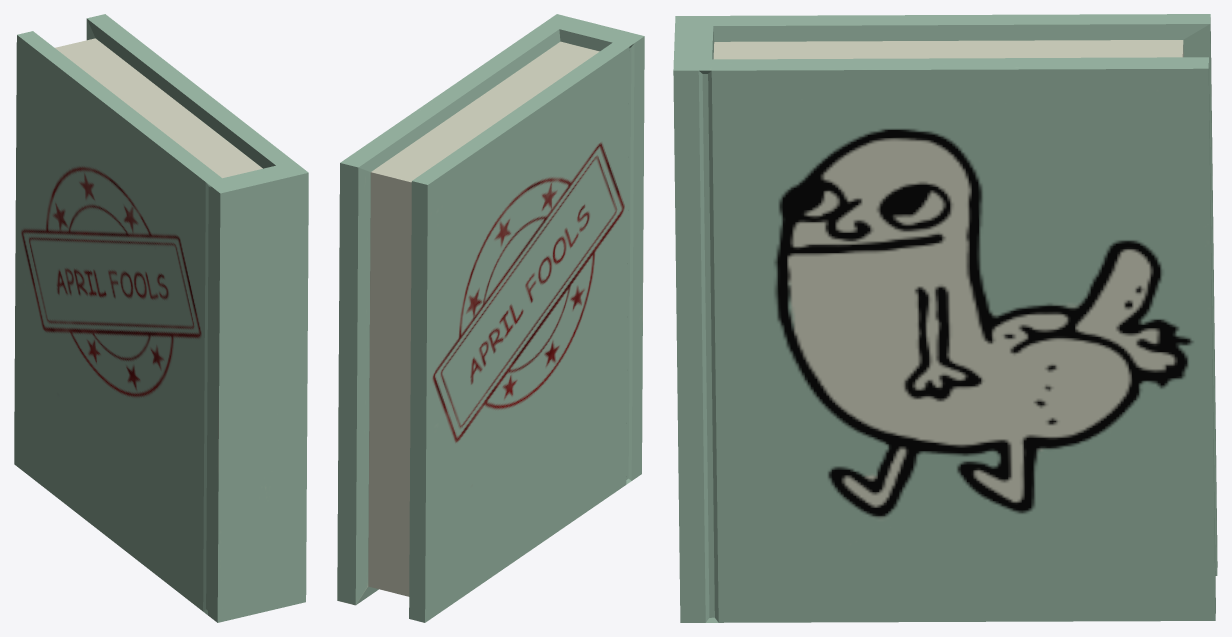
File: AtlA_Book1_water.fbx
3 views of the same model, side by side, from view 1: azimuth 30°, elevation 25°; view 2: azimuth 150°, elevation 25°; view 3: azimuth 270°, elevation 25° (orthographic). The views are drawn at different scales.
Parts seen in each view (by area): view 1: Book; view 2: Book; view 3: Book.
Part boxes in pixels (x1=…): Book: x1=14, y1=14, x2=308, y2=622; Book: x1=337, y1=14, x2=644, y2=622; Book: x1=673, y1=14, x2=1217, y2=622.
Size of the model in its own units: 1.34 by 5.99 by 5.3.
